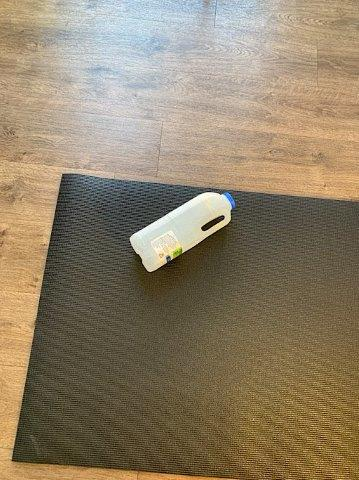botolplastik: (130, 192, 235, 272)
